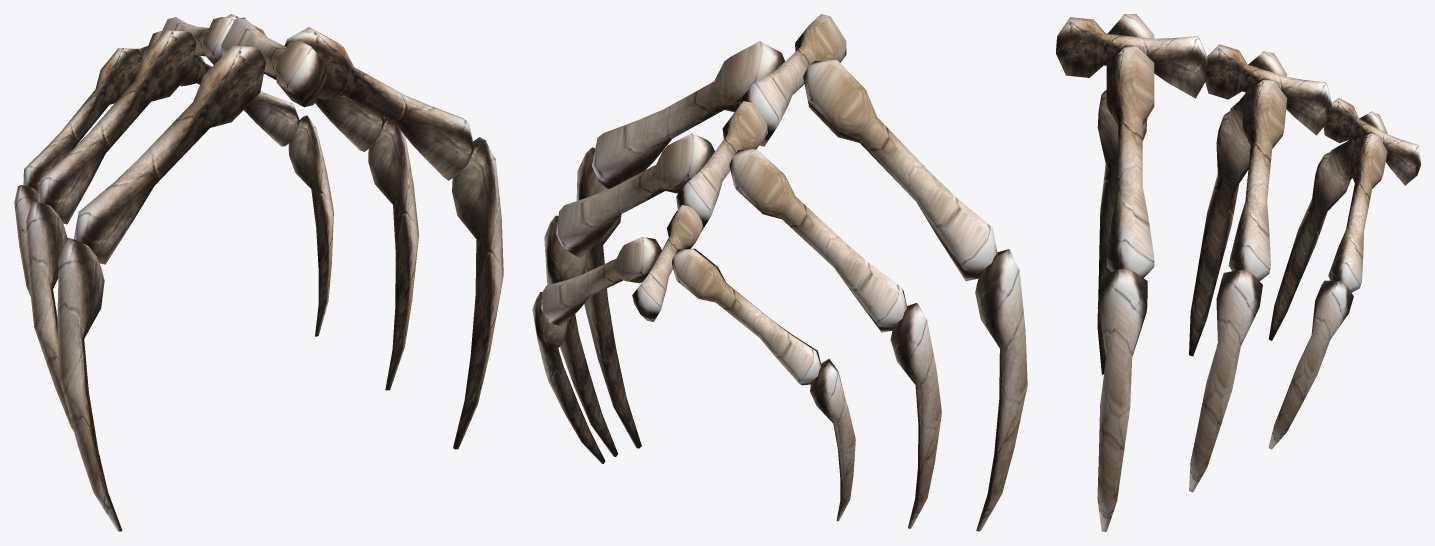
3 views of the same model, side by side, from view 1: azimuth 30°, elevation 25°; view 2: azimuth 150°, elevation 25°; view 3: azimuth 270°, elevation 25° (orthographic). The views are drawn at different scales.
Visible parts, largest first — view 1: SMDImport; view 2: SMDImport; view 3: SMDImport.
Part boxes in pixels (bbox=[...]): SMDImport: bbox=[14, 14, 503, 531]; SMDImport: bbox=[532, 14, 1027, 531]; SMDImport: bbox=[1056, 14, 1420, 531].
Size of the model in its own units: 274 by 271 by 206.
